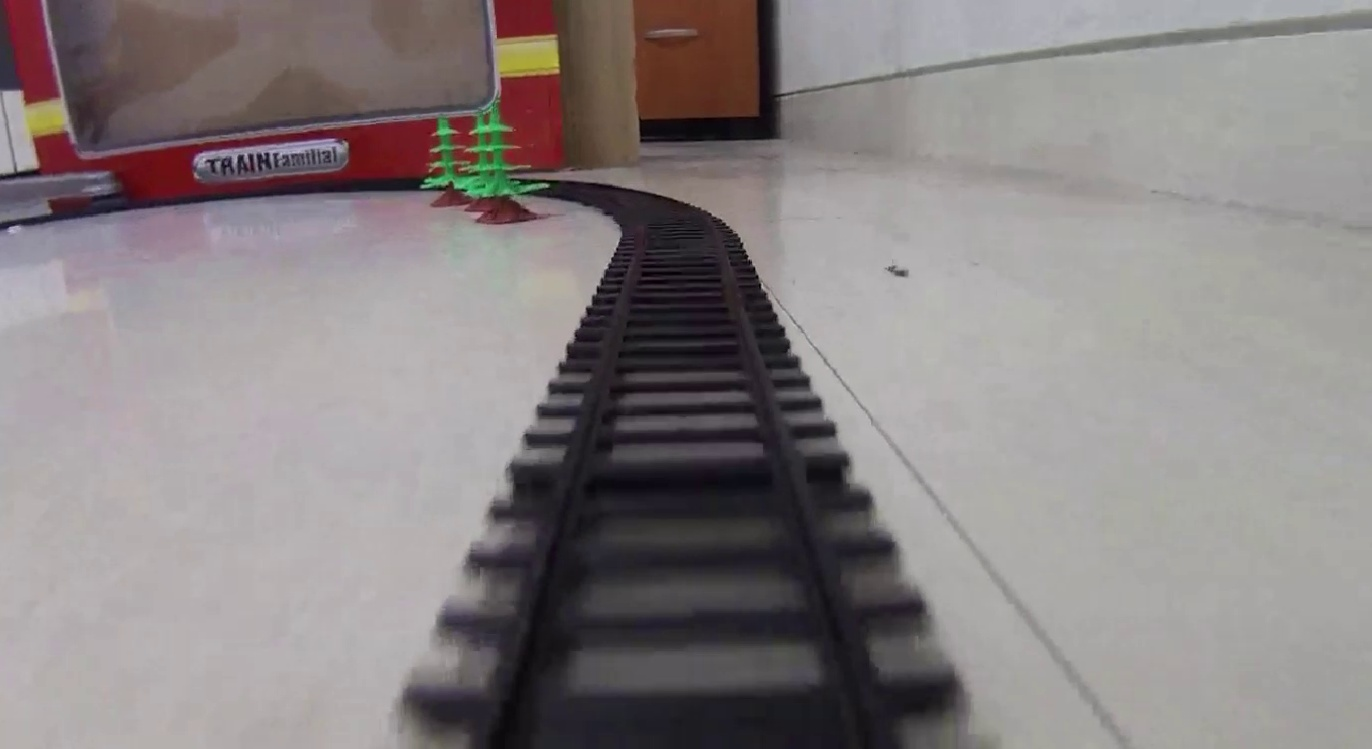tree: (467, 101, 541, 223), (423, 117, 473, 207)
